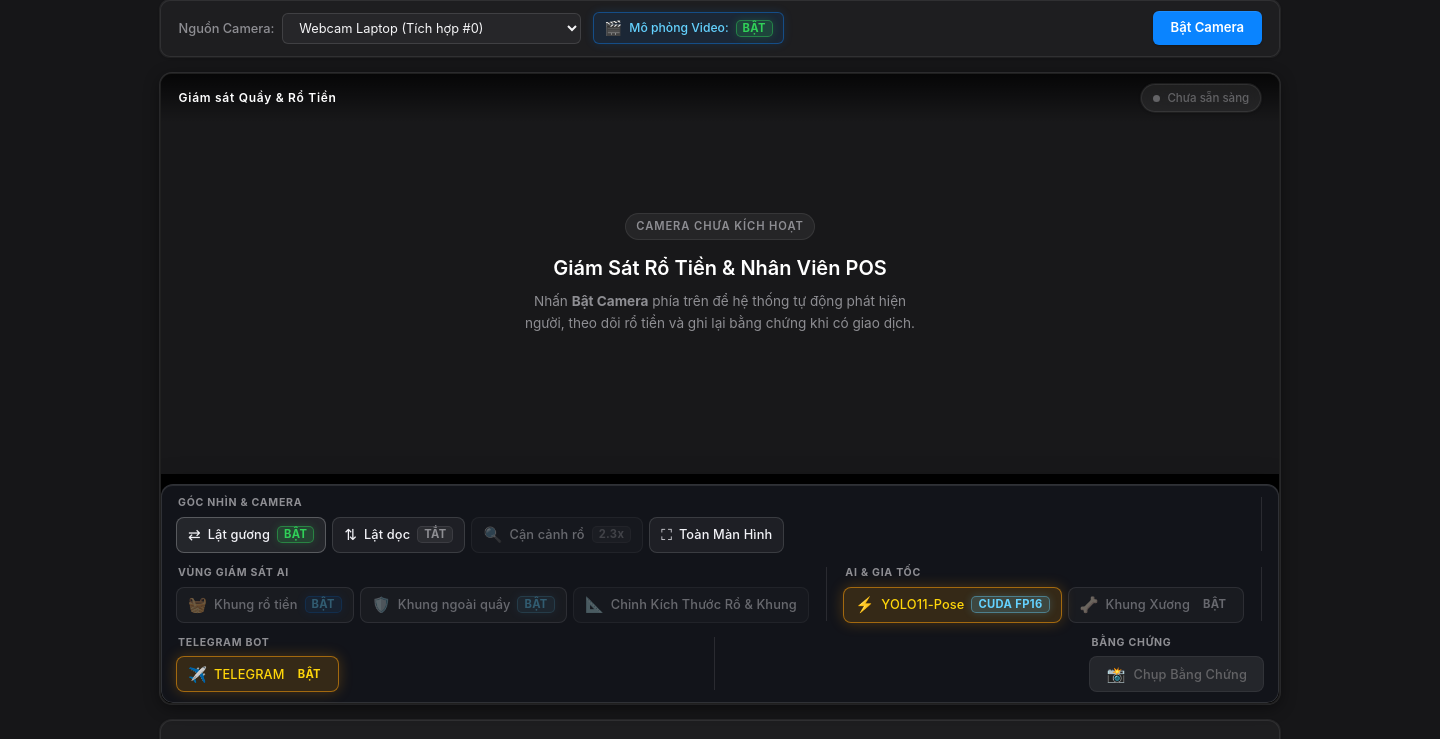
it: LiveWebcam Component › supports video simulation mode and feature flag toggle with safe fallback
Expected: the button titled "Tắt tính năng mô phỏng video file" is shown, [593,12,784,44]
Expected: the text "Mô phỏng Video:" is shown, [629,19,729,38]
Note: Switch to simulated video source
Select "🎬 Mô Phỏng Video File (Kiểm thử offline)" in the dropdown at (432, 28), box [282,13,581,44]
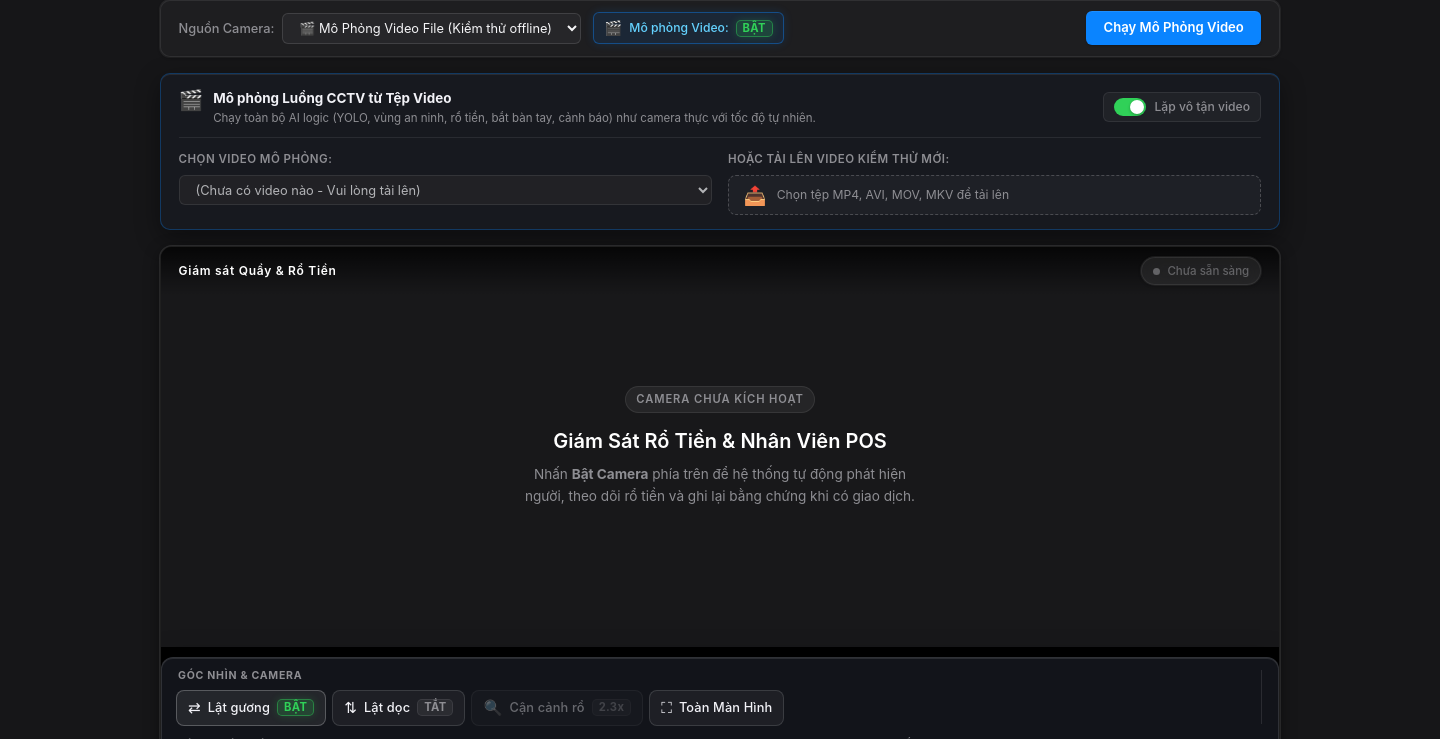
Expected: the text "Mô phỏng Luồng CCTV từ Tệp Video" is shown, [213,90,451,106]
Expected: the text "Lặp vô tận video" is shown, [1154,98,1250,116]
Expected: the text "Chọn tệp MP4, AVI, MOV, MKV để tải lên" is shown, [777,187,1009,203]
Note: Toggle flag OFF (Fallback test)
Click the button titled "Tắt tính năng mô phỏng video file" at (689, 28), box [593,12,784,44]
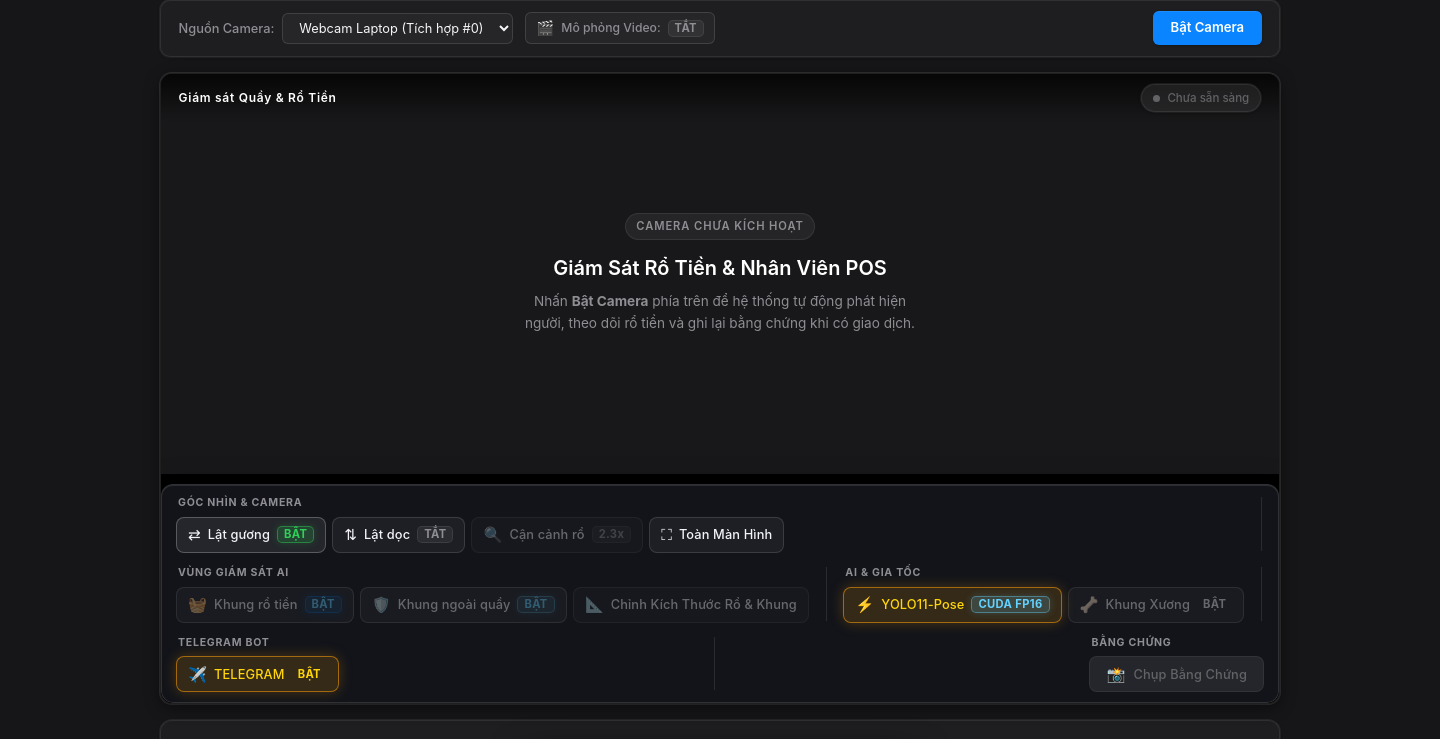
Expected: the text "Mô Phỏng Video File" is not shown
Expected: the text "Mô phỏng Luồng CCTV từ Tệp Video" is gone
